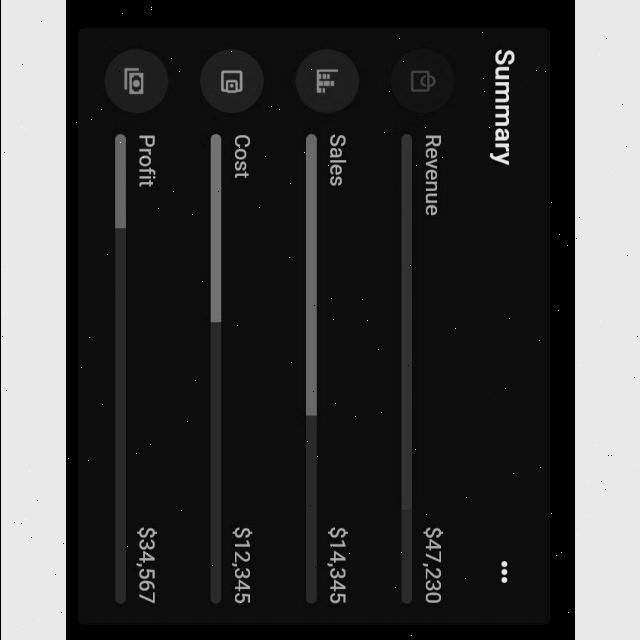QLabel: (490, 46, 518, 170), (228, 526, 254, 604), (134, 524, 158, 604), (421, 526, 445, 604), (422, 132, 444, 216), (326, 526, 348, 604), (134, 134, 156, 188), (328, 133, 346, 185), (233, 132, 251, 182)
VCard: (74, 26, 554, 628)
VIcon: (498, 559, 508, 583)
VImg: (294, 49, 360, 113), (390, 50, 454, 114), (198, 50, 264, 112), (104, 49, 168, 112)
VProgressLinear: (209, 131, 223, 605), (400, 133, 414, 602), (305, 132, 317, 608), (114, 132, 126, 604)
